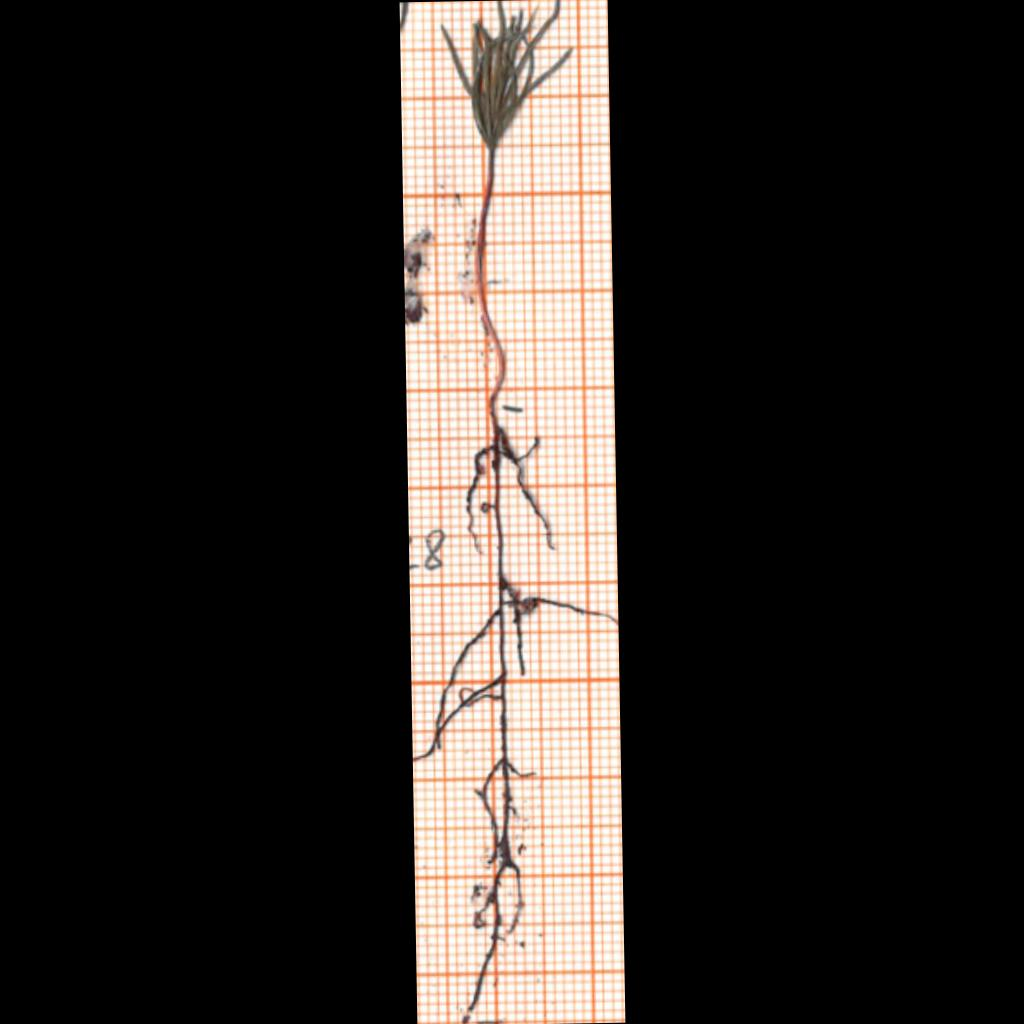flowerPinus: (442, 0, 571, 150)
rootPinus: (415, 423, 600, 1023)
stemPinus: (477, 151, 505, 420)
